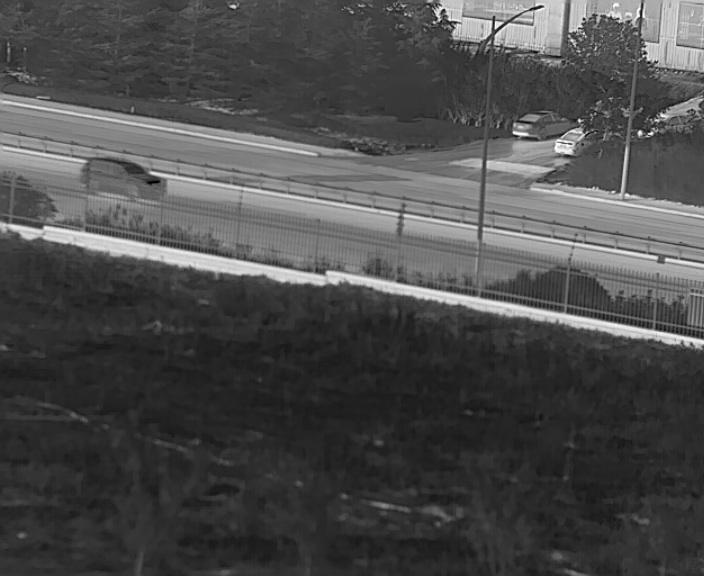vehicle: (78, 156, 165, 200), (511, 110, 565, 142), (553, 128, 586, 156)
